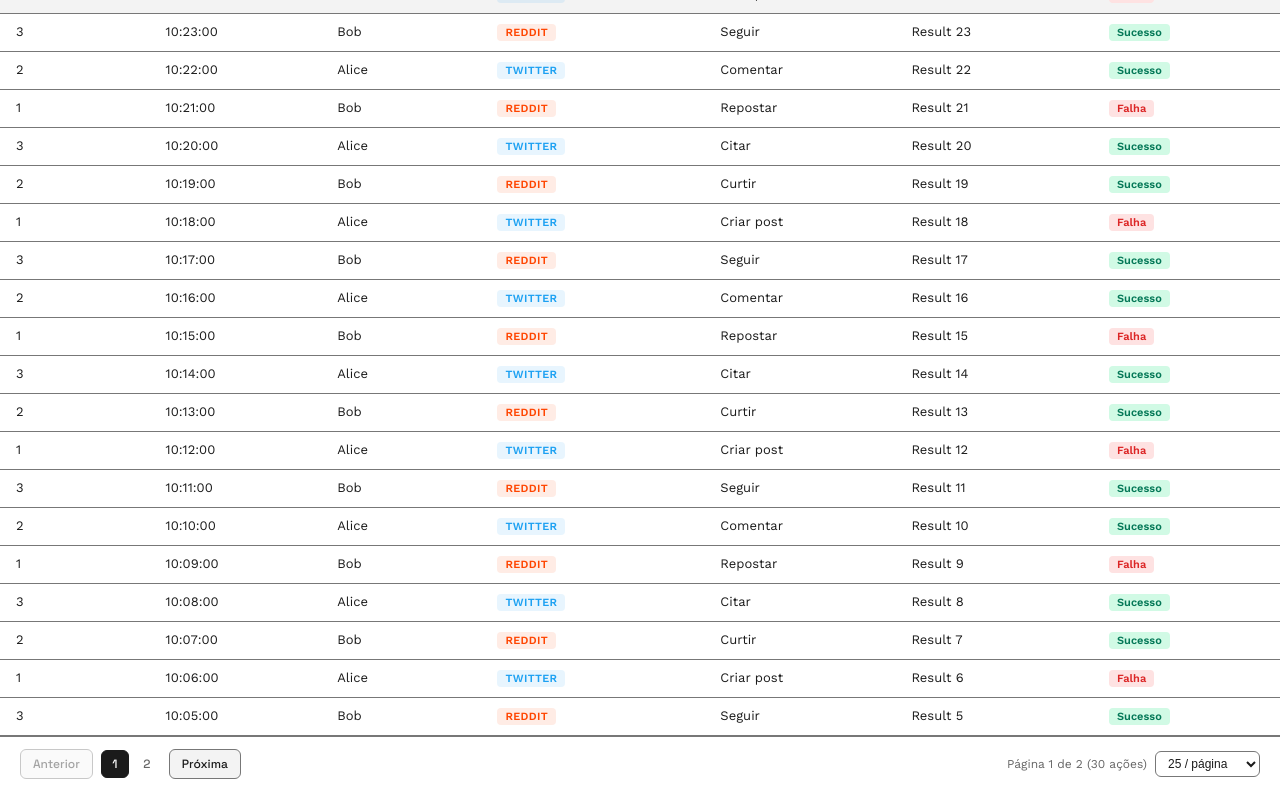
Test: ActionExplorer › disables prev on first page and next on last page
(page scrolled)
Check: the button "Anterior" is disabled, box x1=20 y1=749 x2=93 y2=779
Check: the button with class "next" is enabled, box x1=169 y1=749 x2=241 y2=779
// Change page size to 10
Select "10 / página" in the dropdown at point(1208, 764), box x1=1155 y1=751 x2=1260 y2=777
(page scrolled)
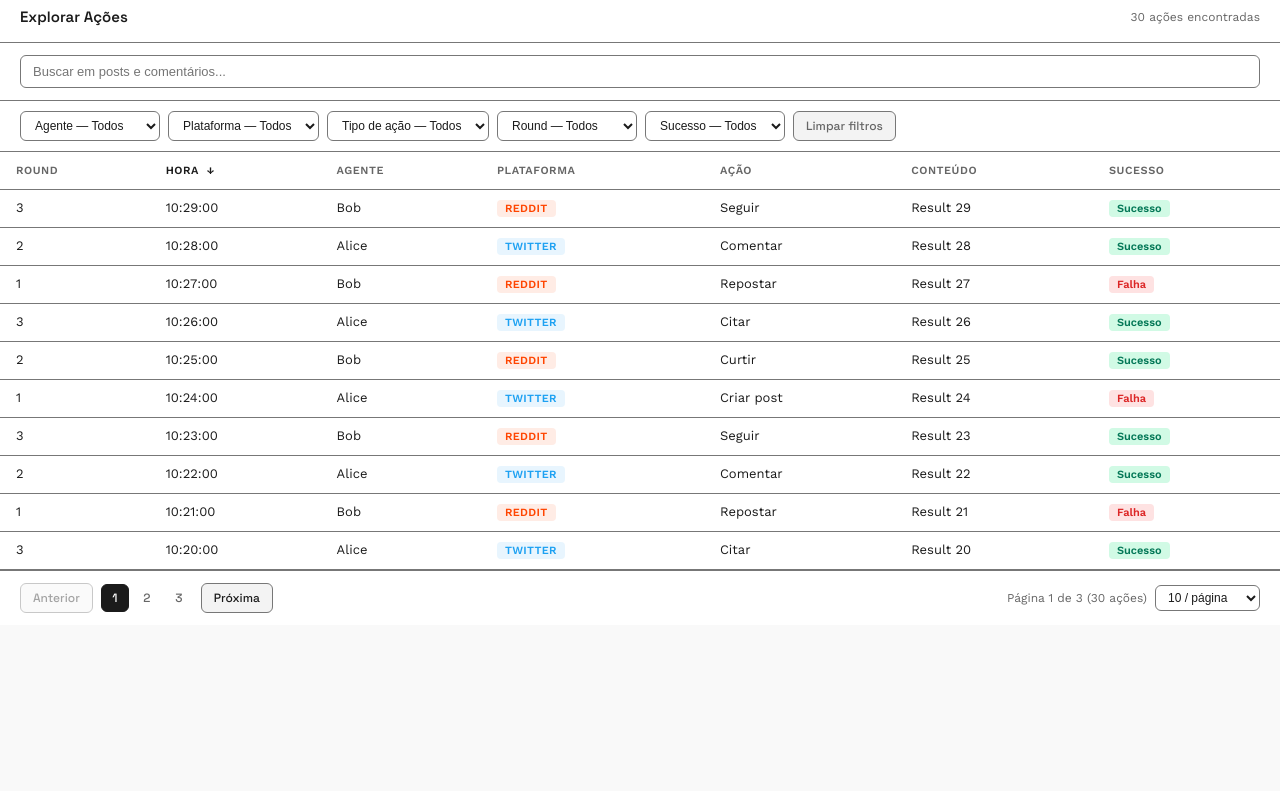
// Click next twice to reach last page (3 pages)
Click the button with class "next".
click(237, 598)  # box x1=201 y1=583 x2=273 y2=613
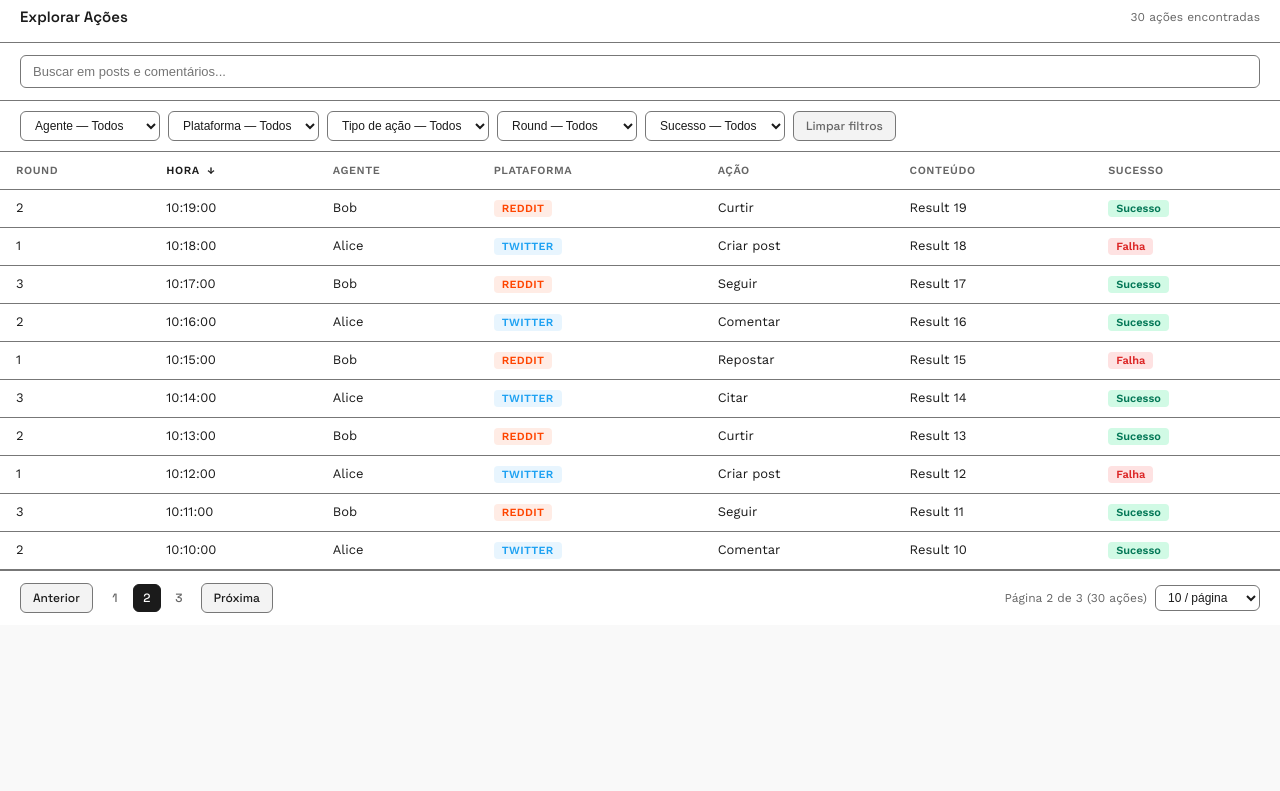
Click the button with class "next".
click(237, 598)  # box x1=201 y1=583 x2=273 y2=613
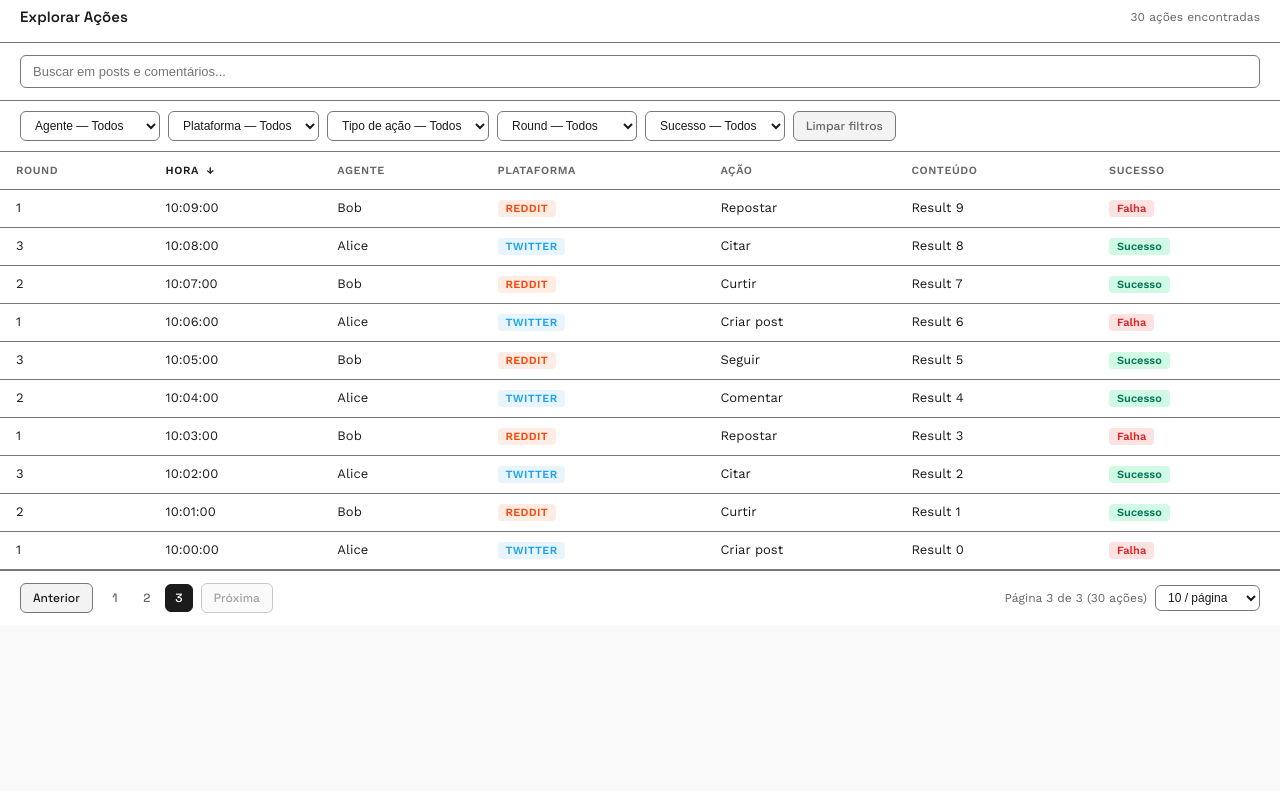
Check: the button "Anterior" is enabled, box x1=20 y1=583 x2=93 y2=613
Check: the button with class "next" is disabled, box x1=201 y1=583 x2=273 y2=613
